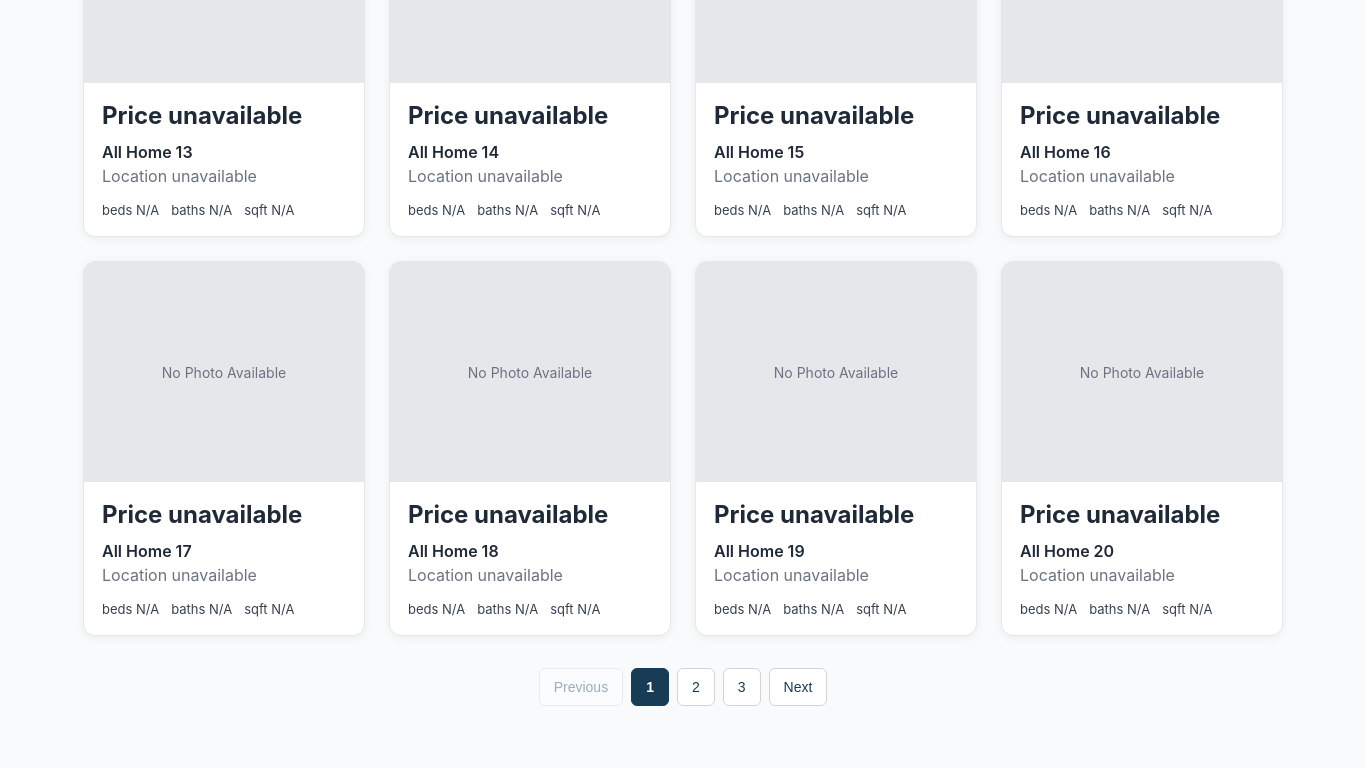
Scenario: ListingsPage Pagination Integration › fetches the correct properties when changing pages
(page scrolled)
Click the button "2" at (696, 687), box top-left (677, 668), bottom-right (715, 706)
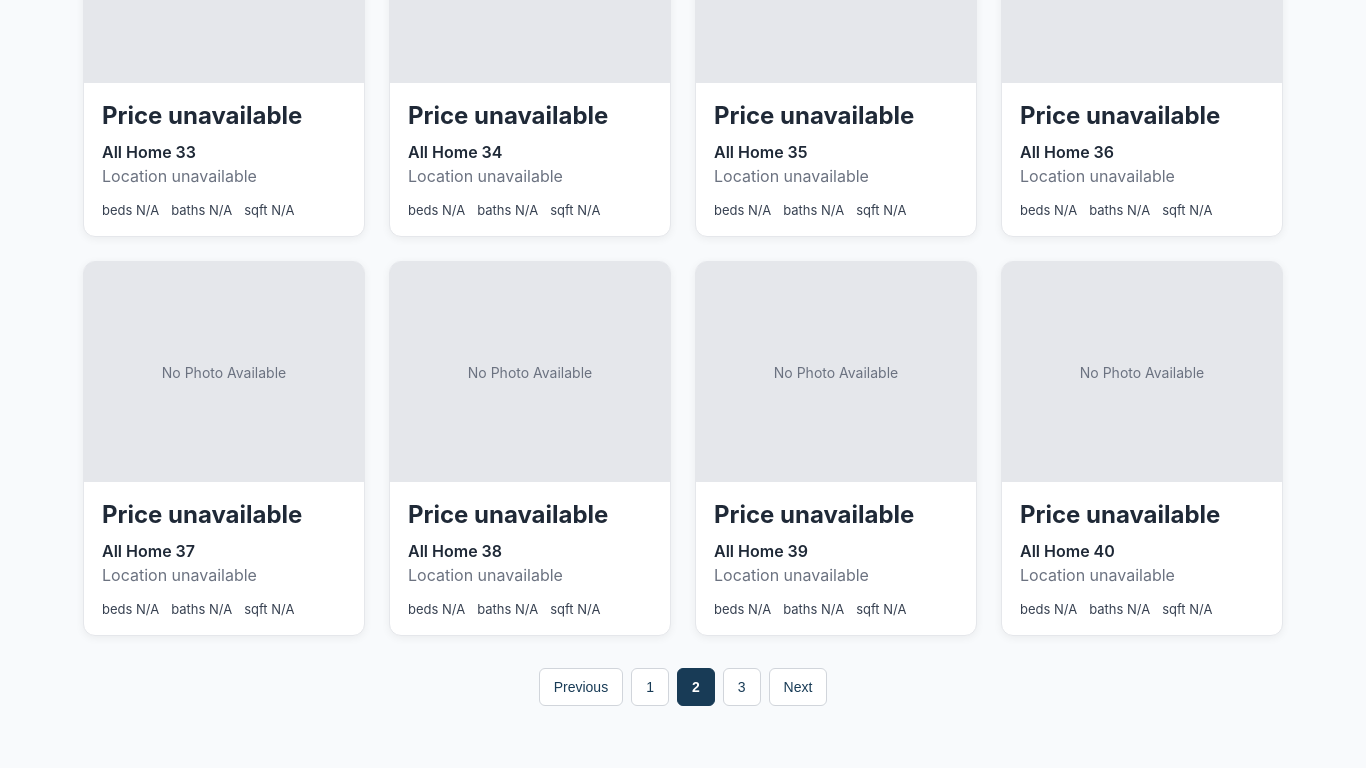
Click the button "3" at (742, 687), box top-left (723, 668), bottom-right (760, 706)
(page scrolled)
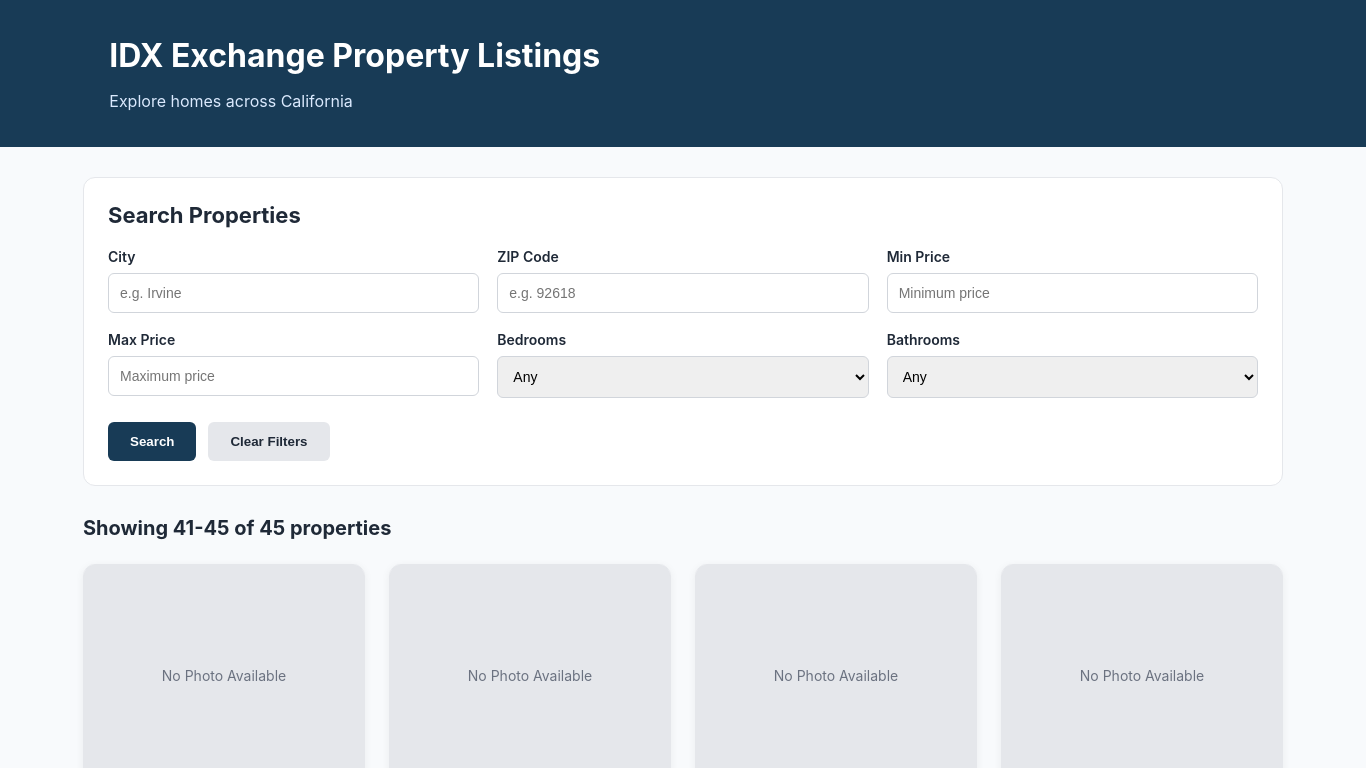
Expected: the heading "Showing 41-45 of 45 properties" is shown, top-left (83, 516), bottom-right (391, 540)
